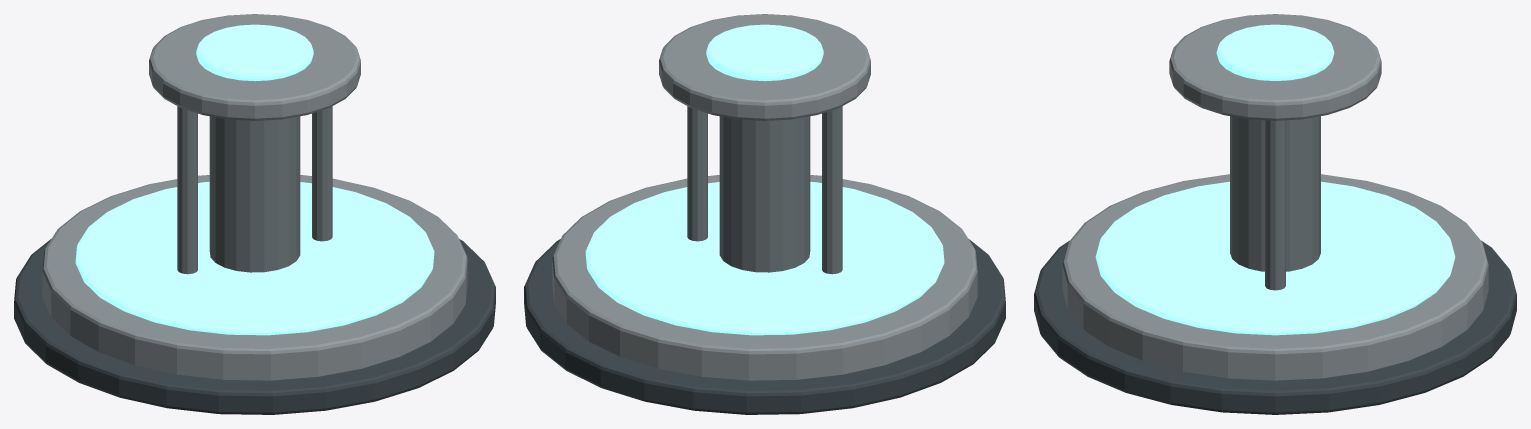
Rendered from EmbassyFountain_A.fbx.
The picture shows the model from 3 angles, left to right: view 1: azimuth 30°, elevation 25°; view 2: azimuth 150°, elevation 25°; view 3: azimuth 270°, elevation 25°; orthographic projection.
Visible parts, largest first — view 1: Fountain Water, Fountain Basin, Fountain Foot, Fountain Pedestal, Fountain Upper Bowl, Fountain Light, Fountain Accent Spire, Fountain Accent Spire.001; view 2: Fountain Water, Fountain Basin, Fountain Foot, Fountain Pedestal, Fountain Upper Bowl, Fountain Light, Fountain Accent Spire, Fountain Accent Spire.001; view 3: Fountain Water, Fountain Basin, Fountain Foot, Fountain Upper Bowl, Fountain Pedestal, Fountain Light, Fountain Accent Spire.001.
Part boxes in pixels (x1,y1,x2,y2): Fountain Water: (75, 181, 434, 335); Fountain Basin: (42, 175, 467, 380); Fountain Foot: (14, 239, 495, 414); Fountain Pedestal: (209, 116, 300, 272); Fountain Upper Bowl: (149, 14, 360, 120); Fountain Light: (196, 24, 313, 81); Fountain Accent Spire: (177, 106, 197, 274); Fountain Accent Spire.001: (312, 106, 332, 241); Fountain Water: (585, 181, 944, 335); Fountain Basin: (552, 175, 977, 380); Fountain Foot: (524, 239, 1005, 414); Fountain Pedestal: (719, 116, 810, 272); Fountain Upper Bowl: (659, 14, 870, 120); Fountain Light: (706, 24, 823, 81); Fountain Accent Spire: (822, 106, 842, 274); Fountain Accent Spire.001: (687, 106, 707, 241); Fountain Water: (1095, 181, 1455, 335); Fountain Basin: (1062, 174, 1488, 380); Fountain Foot: (1034, 240, 1516, 414); Fountain Upper Bowl: (1169, 14, 1381, 120); Fountain Pedestal: (1230, 116, 1320, 271); Fountain Light: (1216, 24, 1334, 80); Fountain Accent Spire.001: (1265, 120, 1285, 290).
Bounding box in the file's own units: 5.1 × 3.11 × 5.1.
